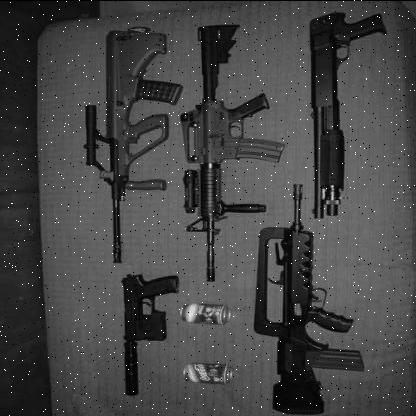rifle: (254, 168, 370, 416), (178, 11, 278, 284), (70, 21, 179, 271), (297, 10, 400, 215), (107, 256, 183, 402)
